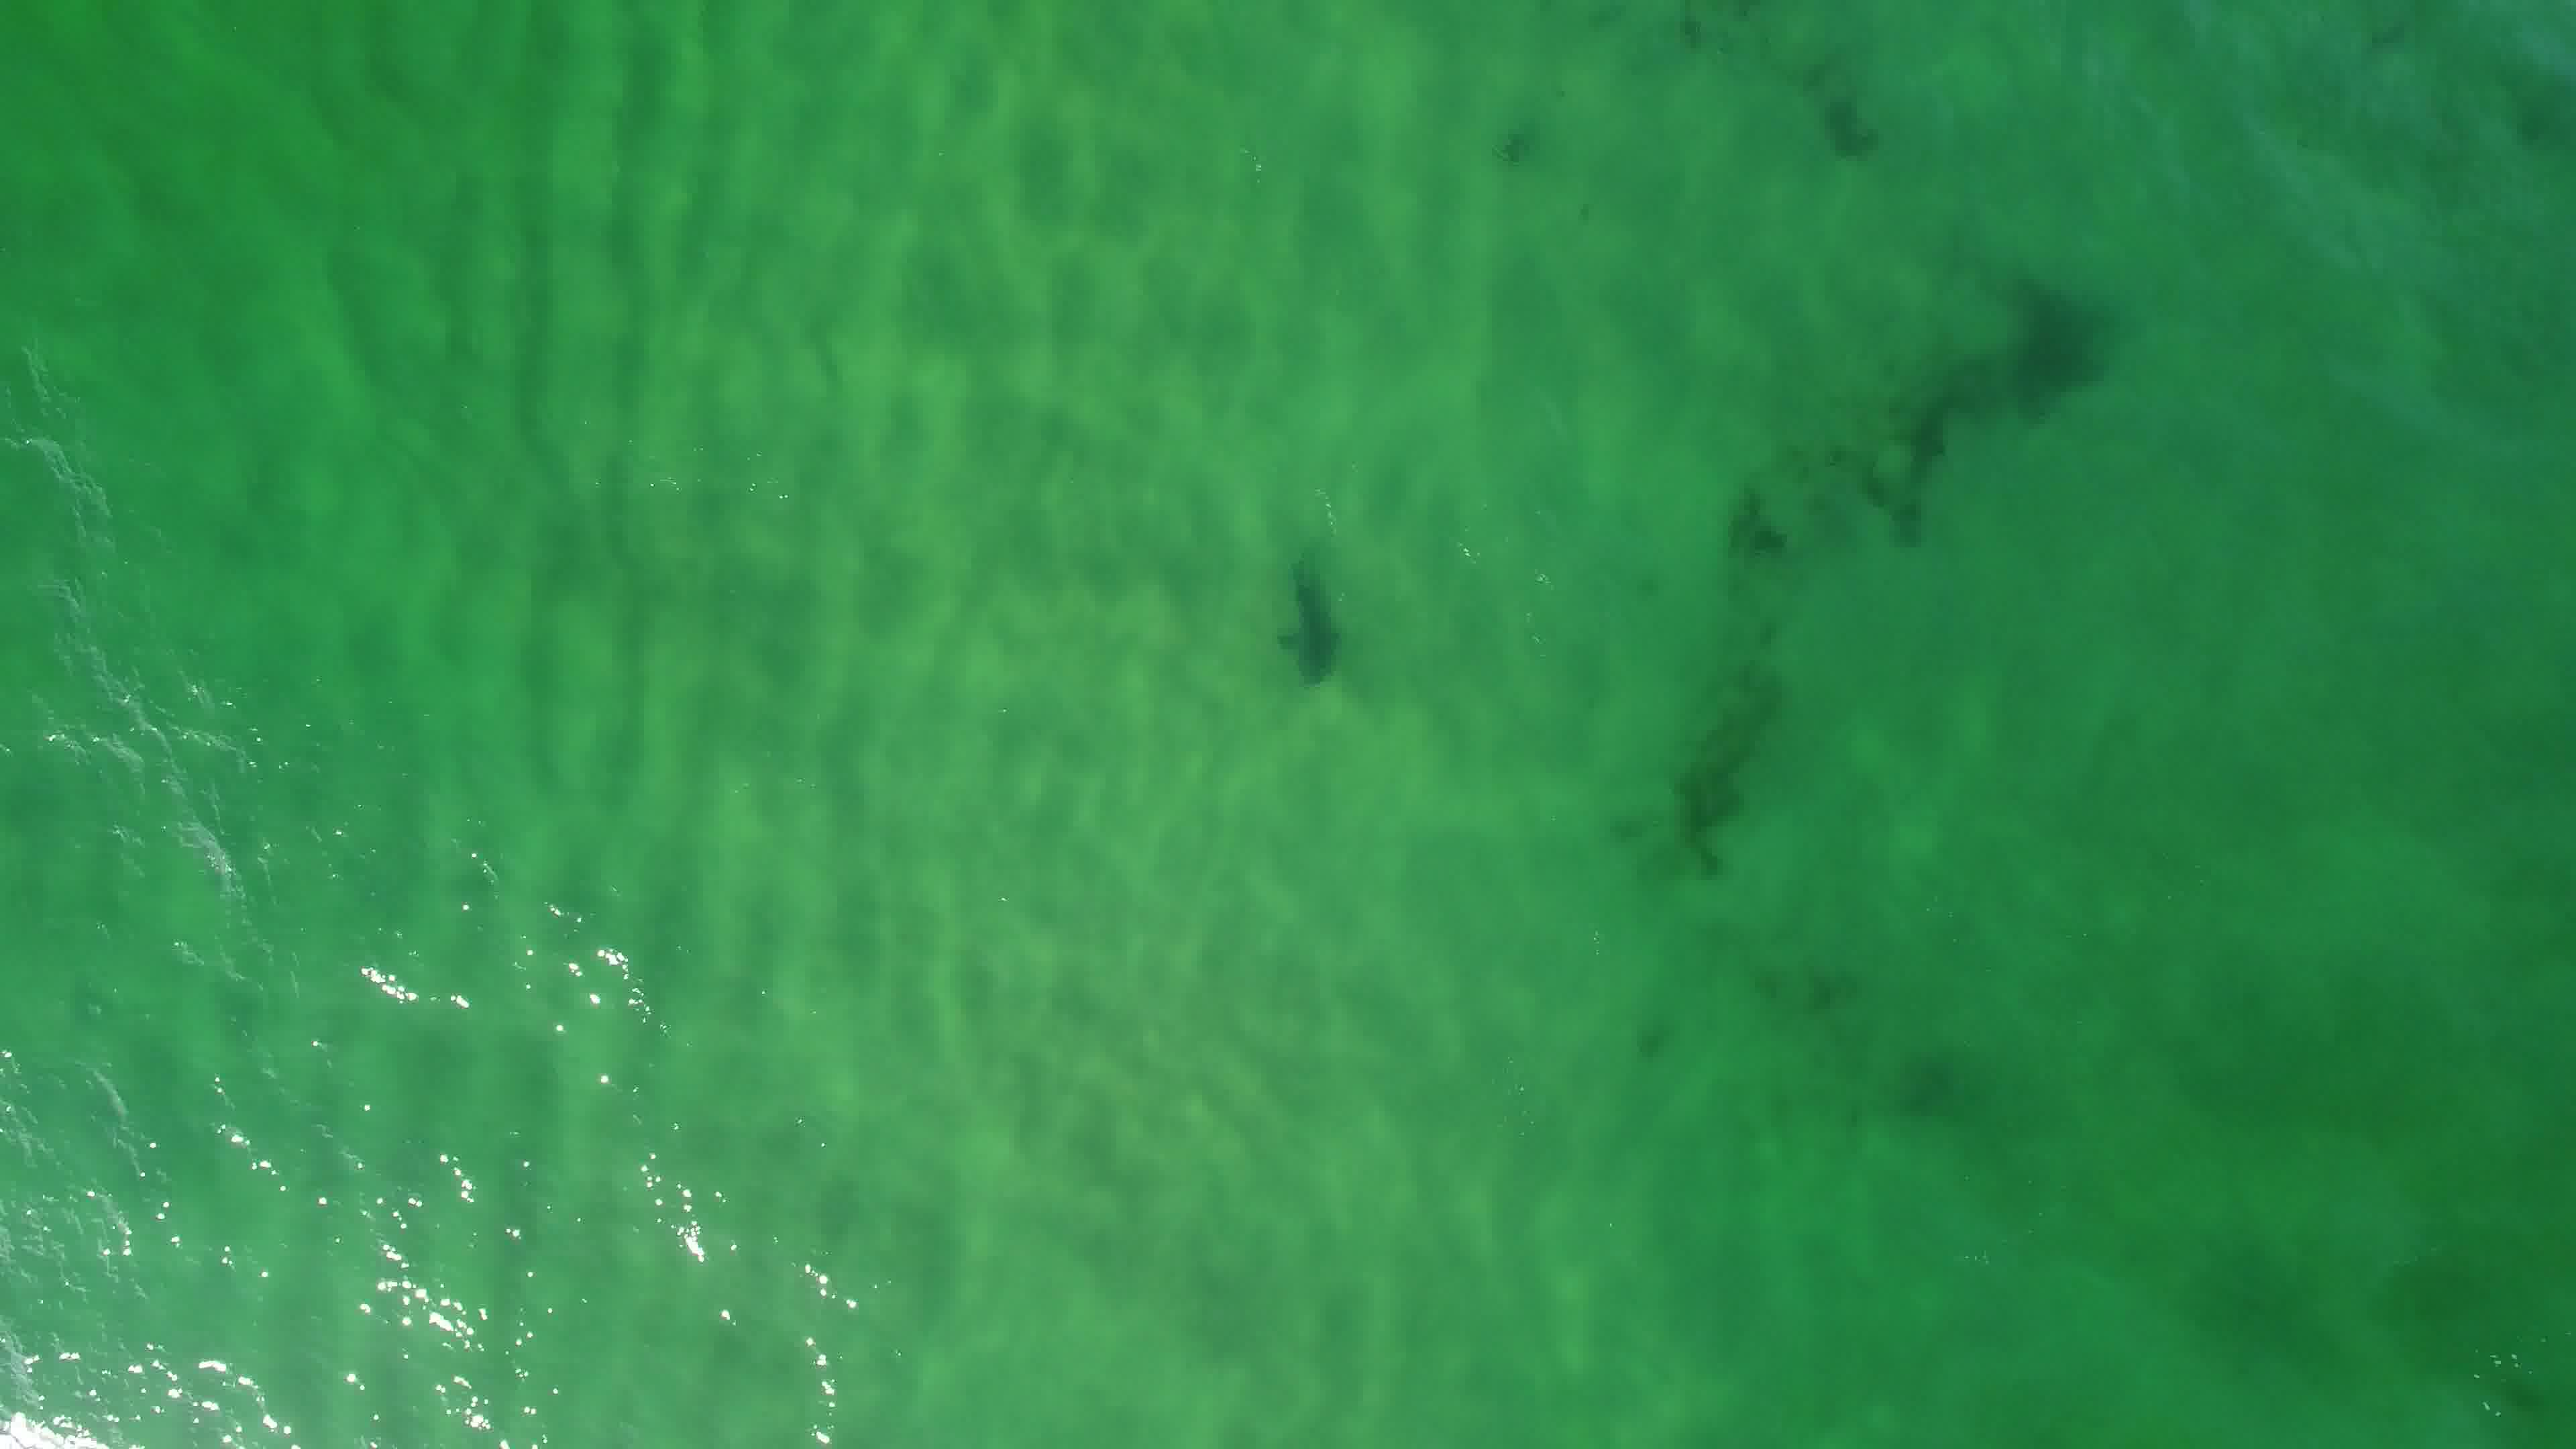shark: (1263, 556, 1353, 690)
